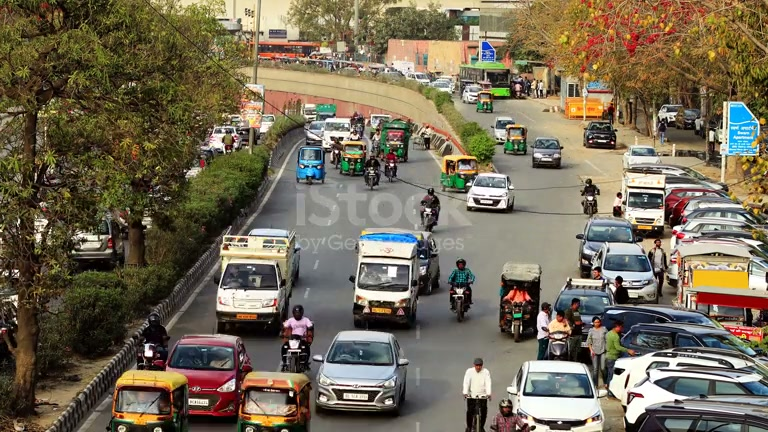bus: (674, 238, 768, 326)
car: (620, 363, 768, 425), (313, 330, 410, 416), (165, 334, 255, 419), (506, 360, 605, 431), (106, 370, 191, 432), (237, 371, 312, 432), (590, 242, 658, 304), (630, 400, 768, 430), (577, 216, 639, 276), (466, 172, 516, 213), (531, 137, 563, 169), (622, 146, 661, 171), (583, 121, 617, 149), (305, 121, 327, 145)
motorcycle: (279, 335, 312, 373), (449, 284, 473, 322), (419, 203, 440, 233), (579, 188, 599, 216), (363, 166, 382, 189)
pedestrian: (462, 356, 492, 432), (602, 320, 631, 388), (280, 305, 314, 361), (139, 311, 170, 370), (586, 316, 608, 390), (487, 399, 534, 432), (447, 258, 476, 308), (546, 310, 572, 361), (648, 239, 668, 298), (535, 301, 553, 360), (420, 187, 440, 228), (610, 275, 630, 305), (612, 190, 625, 219)
truck: (214, 227, 302, 334), (350, 227, 423, 329), (621, 171, 666, 238), (381, 121, 411, 162), (337, 139, 368, 176), (503, 125, 528, 155)
